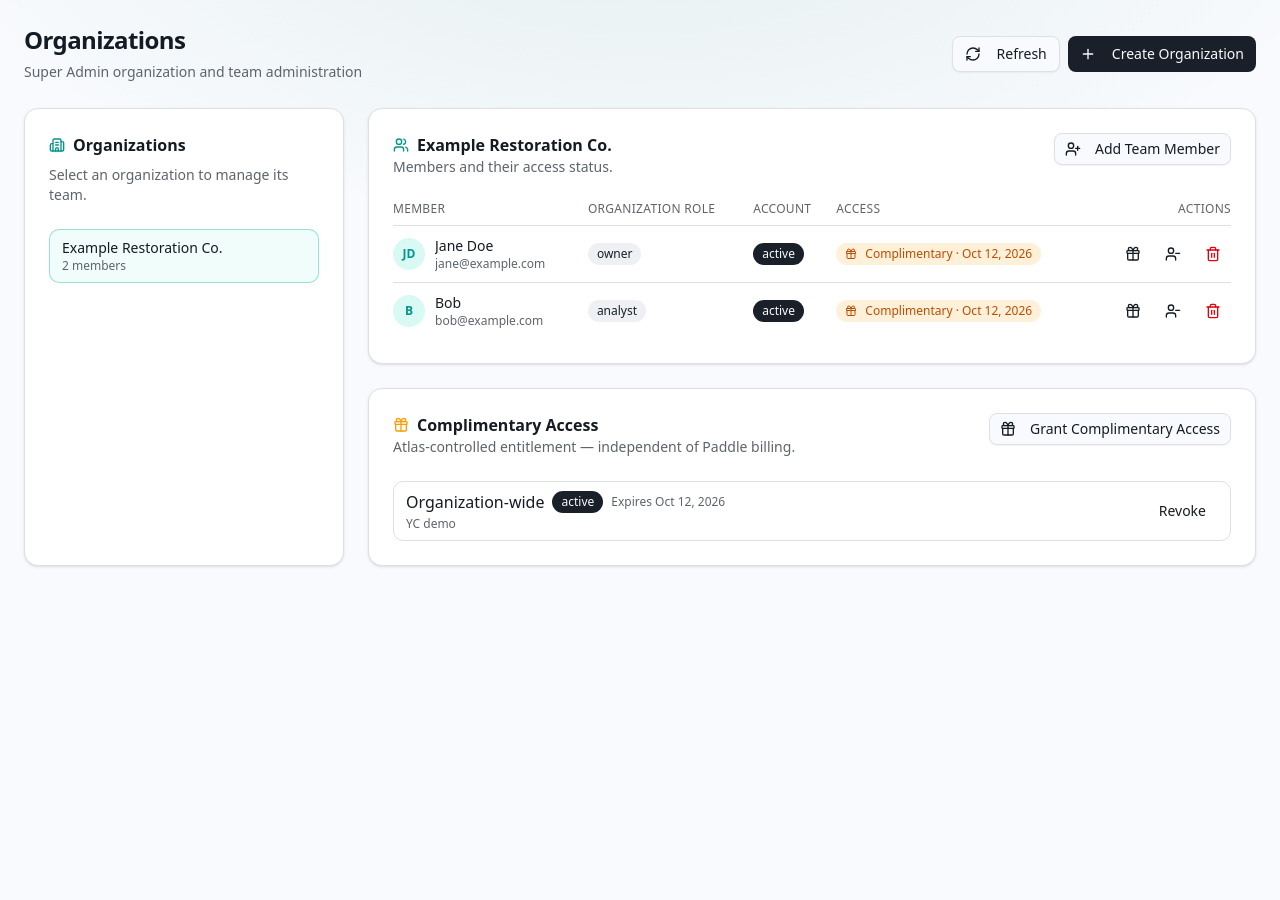
Scenario: SuperAdminOrgs › requires a reason before granting complimentary access
Expected: the text "Jane Doe" is shown, [435,236,494,255]
Click the button titled "Grant complimentary access" in the row of "JD".
click(1133, 254)  # box [1115,238,1151,270]
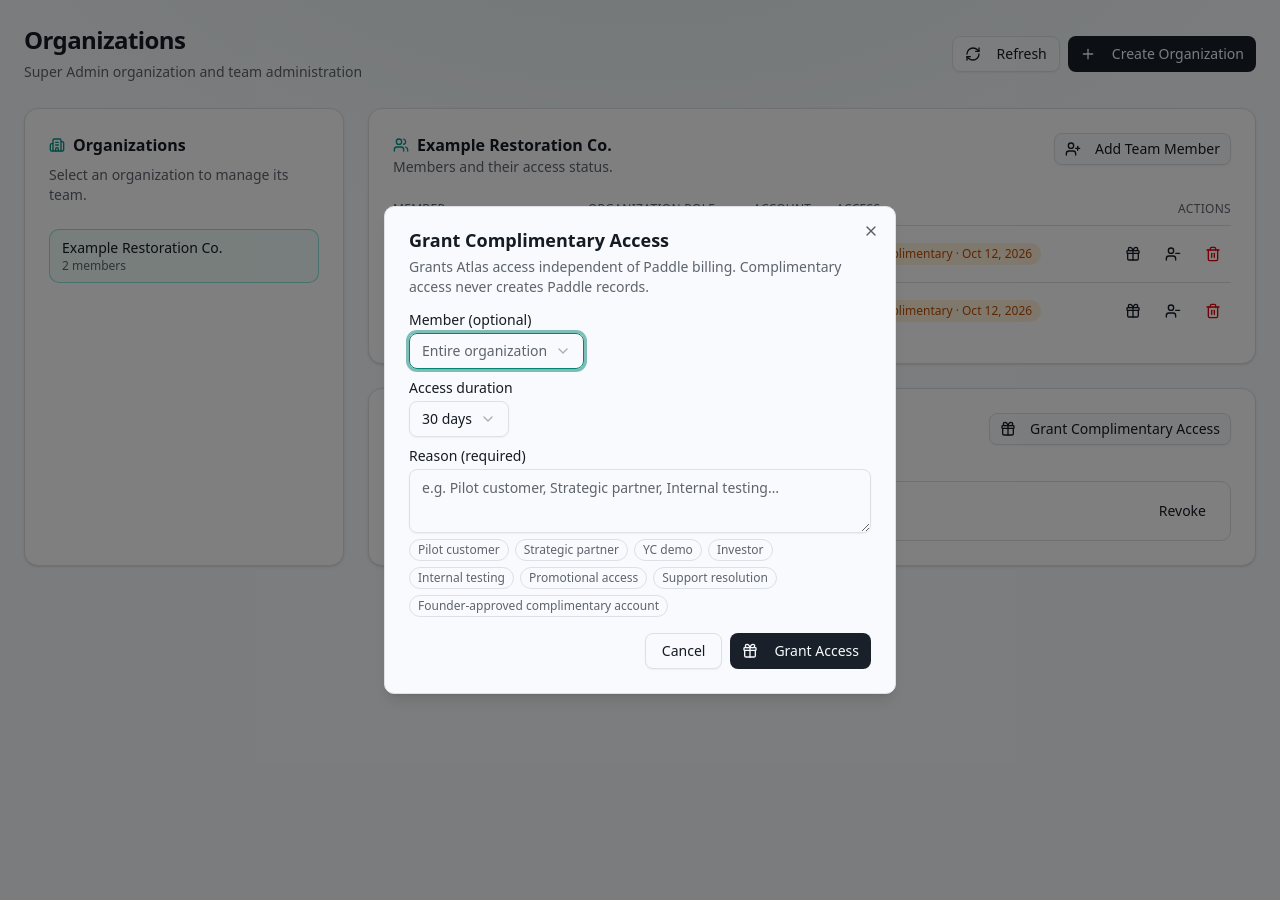
Result: the heading "Grant Complimentary Access" is shown at [409,228,669,252]
// Leave reason empty and submit
Click the button "Grant Access".
click(801, 651)  # box [730,633,871,669]
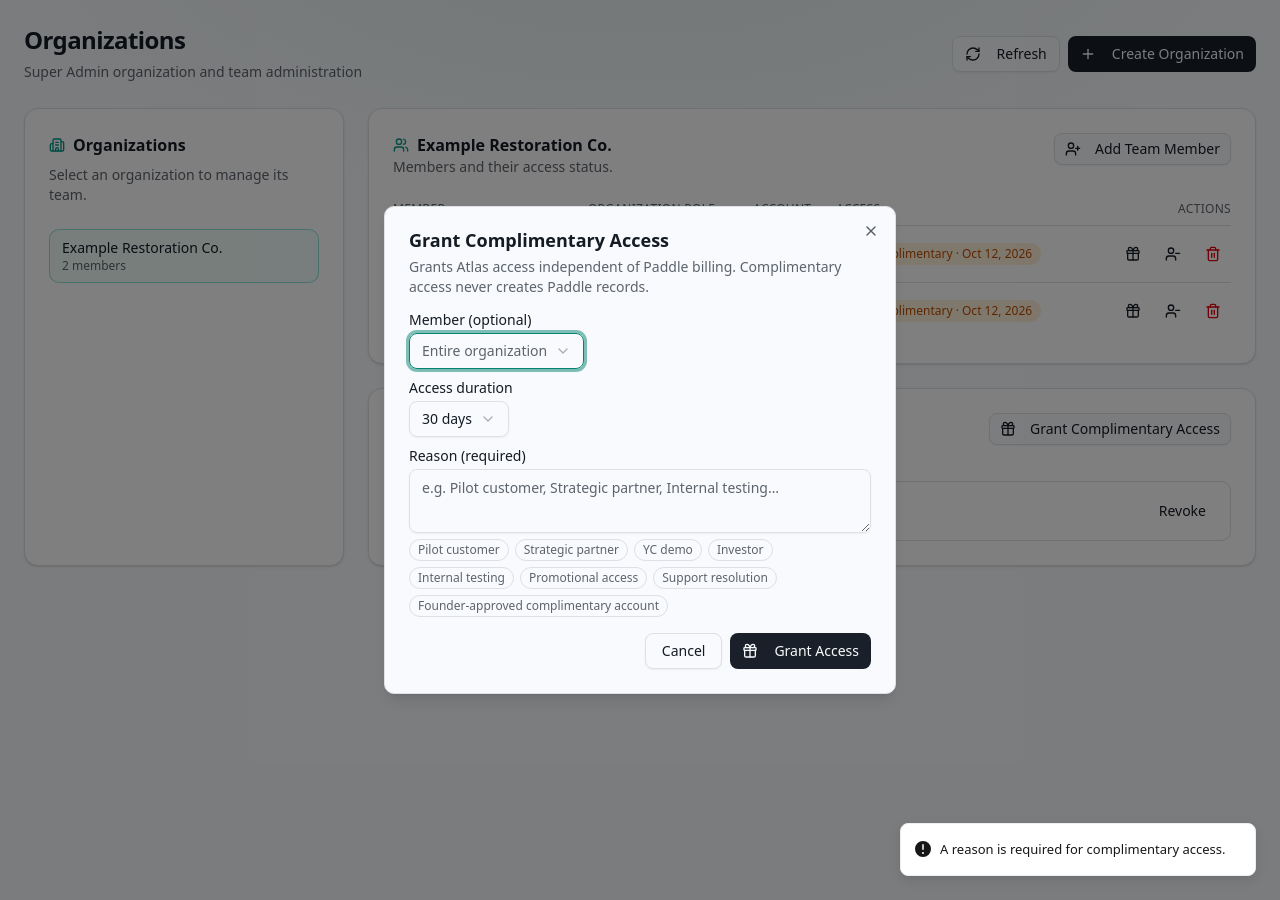
Result: the text "A reason is required for complimentary access." is shown at [940,840,1226,859]
